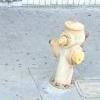a fire hydrant: (48, 19, 89, 87)
